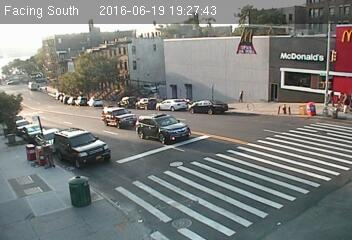neg: (205, 16, 213, 26), (150, 17, 157, 27)
pos: (234, 85, 248, 105), (342, 92, 351, 110)
